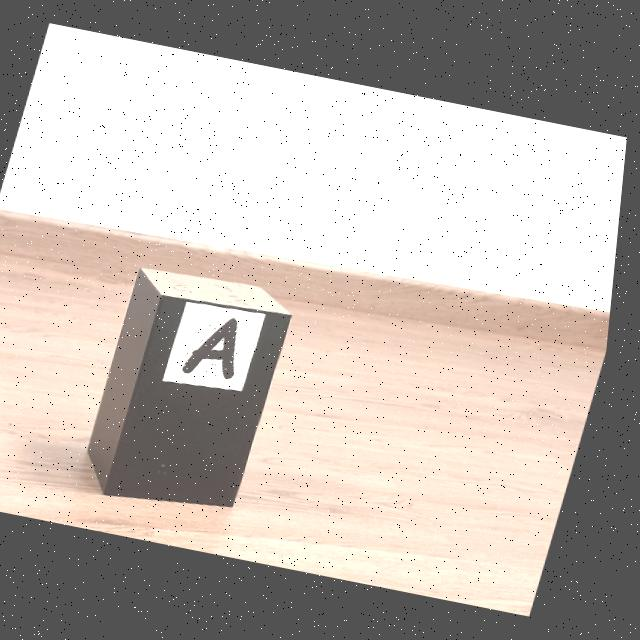A: (190, 318, 244, 379)
